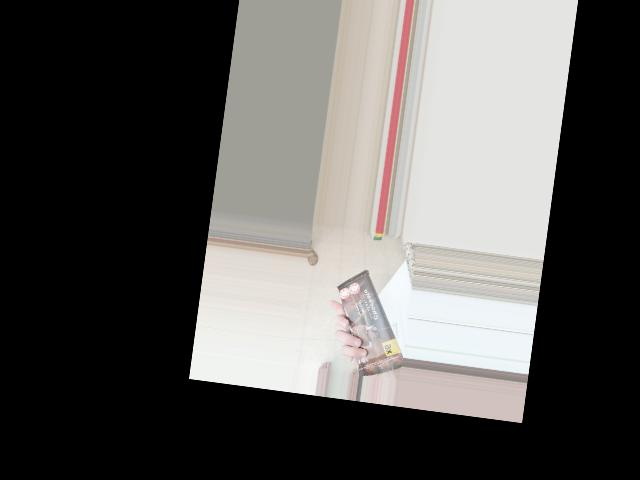chocolate: (328, 262, 415, 373)
